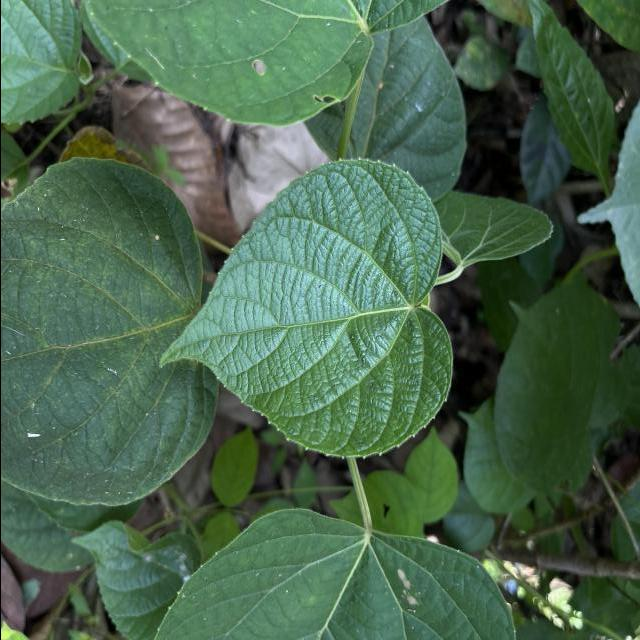Clerodendrum infortunatum: (154, 153, 456, 461)
